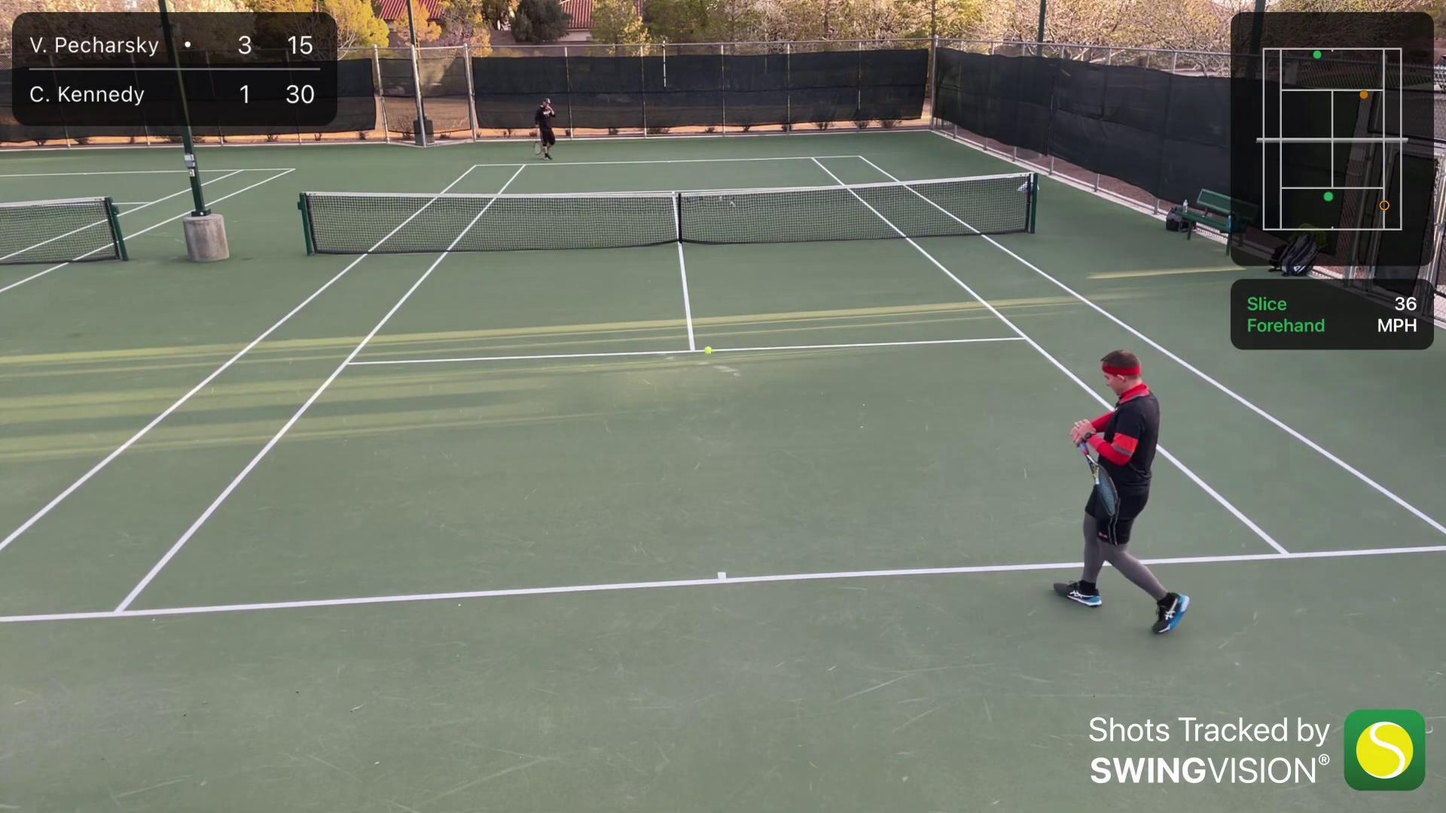ball: (703, 345, 713, 355)
